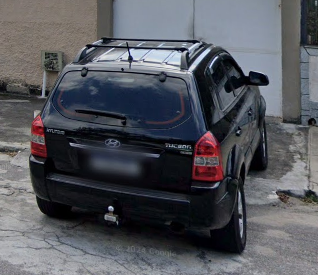car: (29, 37, 270, 256)
